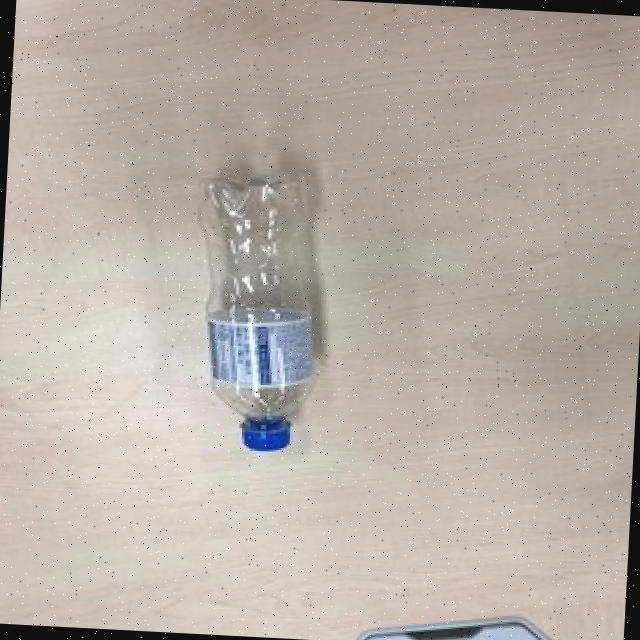bottle: (184, 146, 340, 464)
cap: (238, 414, 298, 456)
label: (184, 313, 328, 387)
